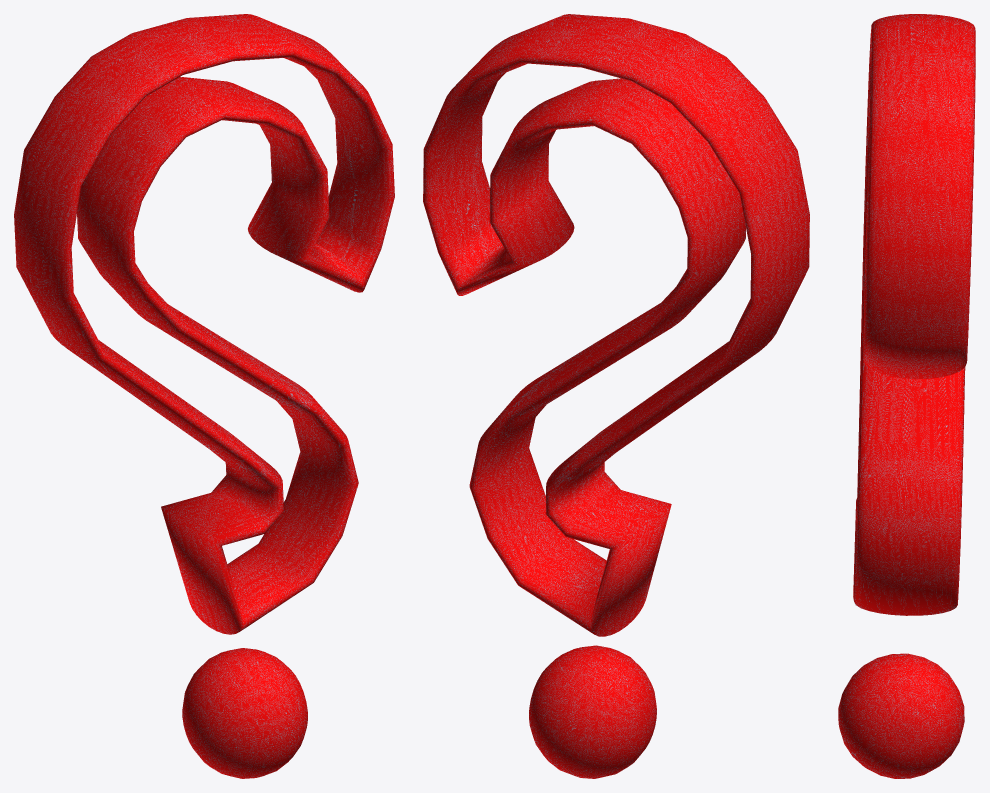
The picture shows the model from 3 angles, left to right: view 1: azimuth 30°, elevation 25°; view 2: azimuth 150°, elevation 25°; view 3: azimuth 270°, elevation 25°; orthographic projection. The views are drawn at different scales.
Visible parts, largest first — view 1: SketchUp (×2); view 2: SketchUp (×2); view 3: SketchUp (×2).
Part boxes in pixels (x1,y1,x2,y2): SketchUp (×2): [14, 14, 394, 778]; SketchUp (×2): [423, 14, 809, 778]; SketchUp (×2): [838, 14, 975, 778].
Bounding box in the file's own units: 14.82 × 5.29 × 30.48.
